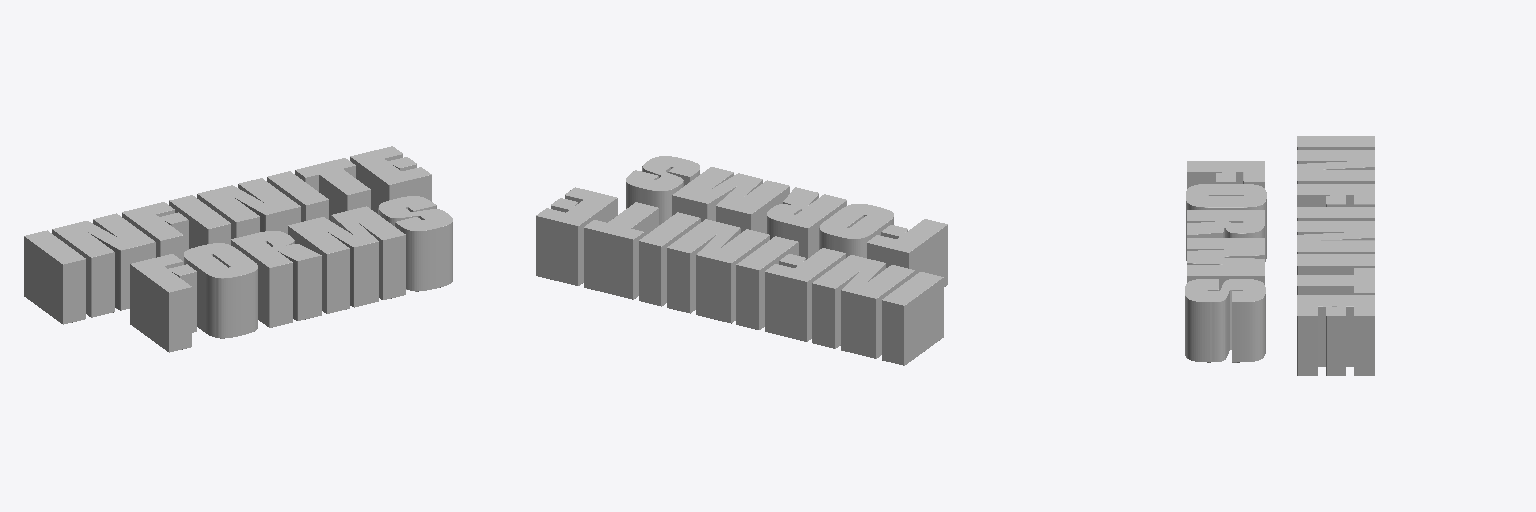
The model's file is infiniteForms.obj.
3 renders of one model, left to right at view 1: azimuth 30°, elevation 25°; view 2: azimuth 150°, elevation 25°; view 3: azimuth 270°, elevation 25°, orthographic.
Parts seen in each view (by area): view 1: Text_INFINITE_FORMS; view 2: Text_INFINITE_FORMS; view 3: Text_INFINITE_FORMS.
Part boxes in pixels (x1,y1,x2,y2): Text_INFINITE_FORMS: (24, 146, 452, 352); Text_INFINITE_FORMS: (536, 156, 947, 365); Text_INFINITE_FORMS: (1185, 136, 1374, 375).
Size of the model in its own units: 3.86 by 0.602 by 1.73.